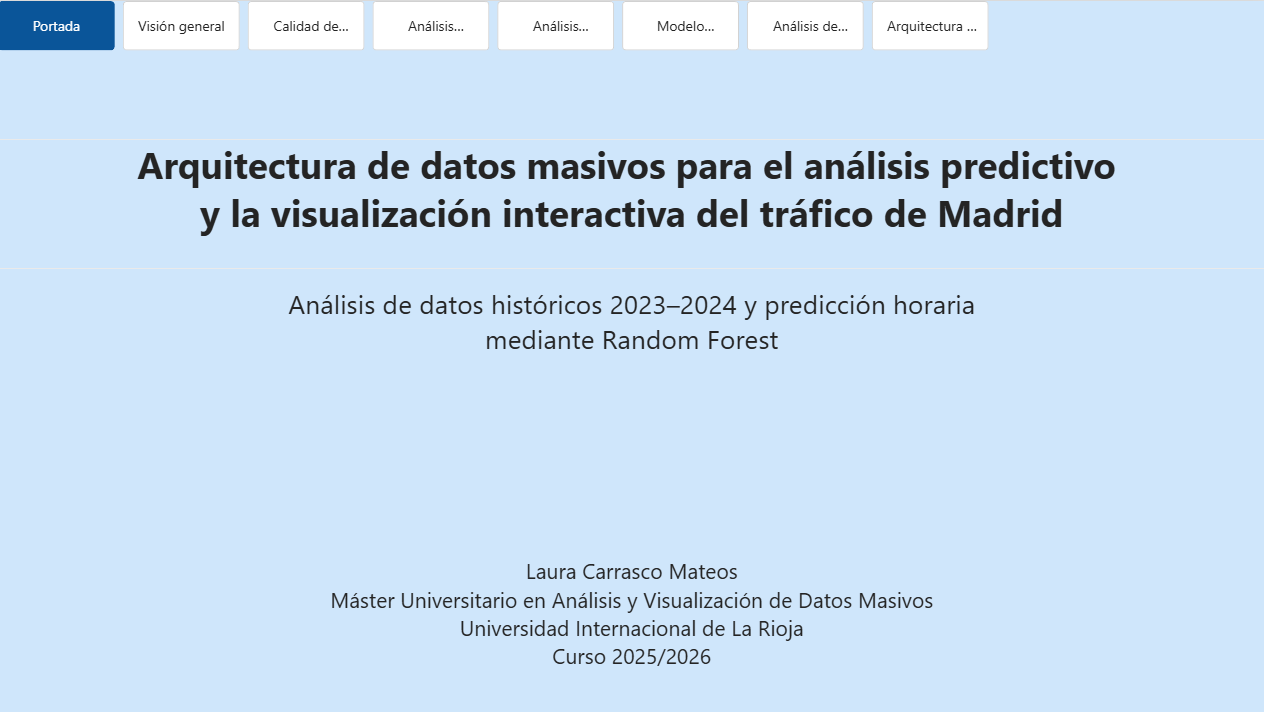

The page's visual inventory and layout, read from the dashboard file:
{"tool":"powerbi","page":{"name":"Portada","canvas":[1280,720],"ordinal":0},"visuals":[{"type":"pageNavigator","box":[0,0,1000,50],"z":0},{"type":"textbox","box":[0,139.3,1279.5,131.7],"z":1000},{"type":"textbox","box":[0,287.7,1279.5,89.3],"z":2000},{"type":"textbox","box":[0,560.3,1279.5,143.8],"z":3000}]}

Visuals, with their boxes on the page's 1280x720 design canvas (x1, y1, x2, y2). These are canvas units, not pixel positions in the 1264x712 screenshot, which may show the page scaled, cropped or inside an application window:
pageNavigator: [x1=0, y1=0, x2=1000, y2=50]
textbox: [x1=0, y1=139, x2=1280, y2=271]
textbox: [x1=0, y1=288, x2=1280, y2=377]
textbox: [x1=0, y1=560, x2=1280, y2=704]
